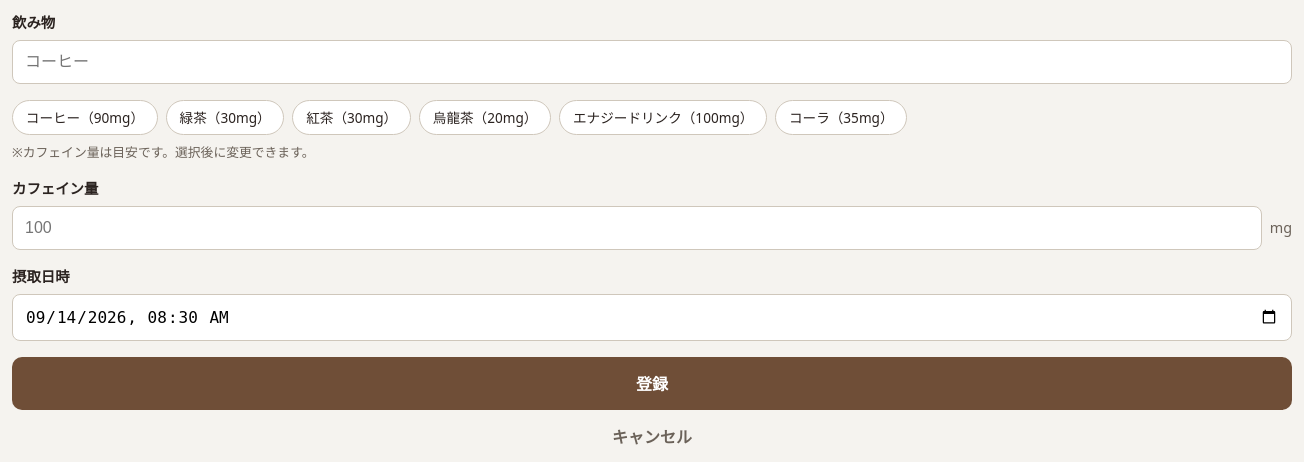
Test: RecordForm › 飲み物プリセット（Version 1.5） › TEST-506: プリセットボタンを押すと、飲み物・カフェイン量欄に対応する値がセットされる
Click the button "コーヒー（90mg）" at [85, 117], box [12,100,158,135]
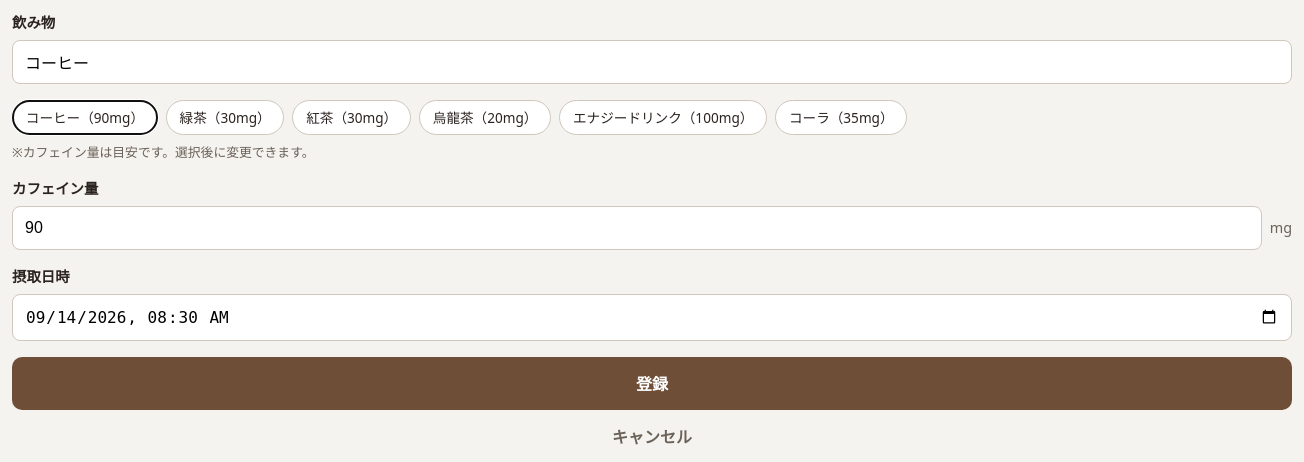
expect the field labelled "飲み物" holds "コーヒー": met, box [12,40,1292,84]
expect the number field labelled "カフェイン量" holds "90": met, box [12,206,1262,250]
